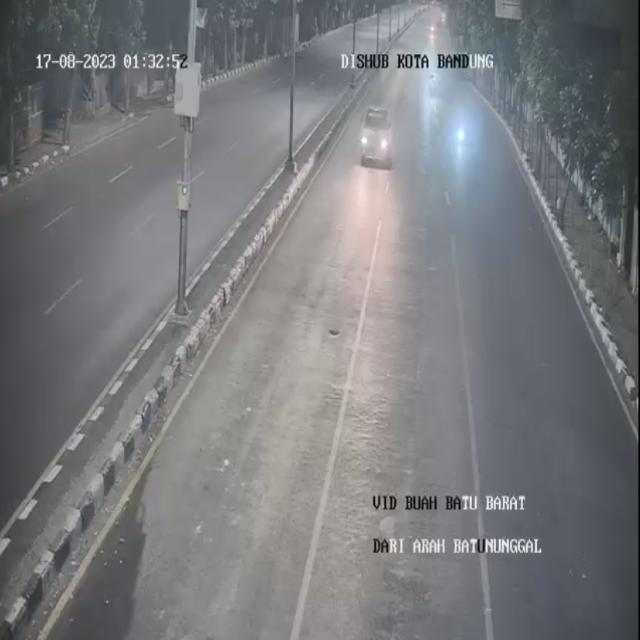cars: (357, 102, 398, 174)
